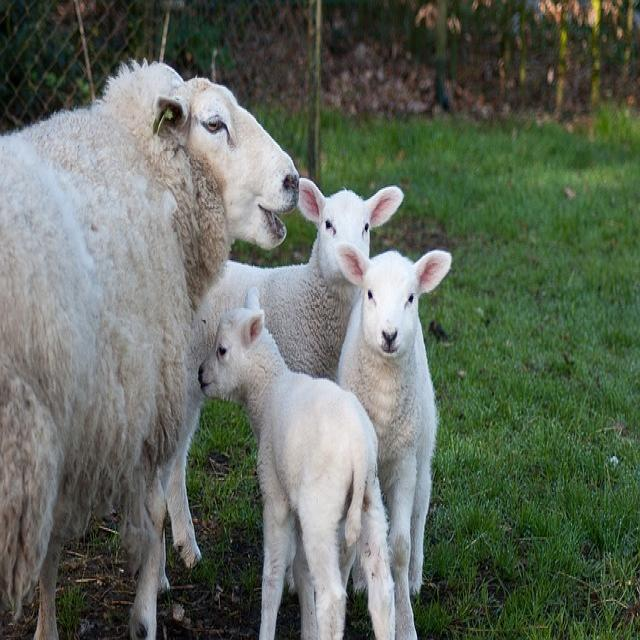sheep: (0, 57, 300, 638), (197, 284, 396, 639), (334, 241, 452, 638)
